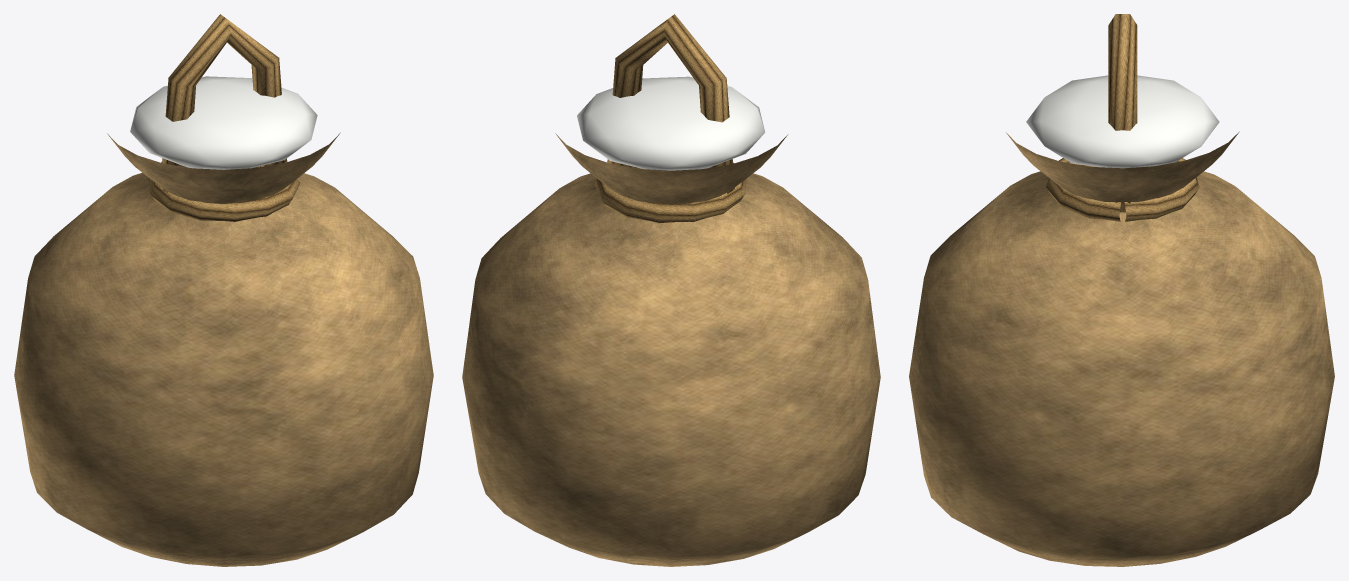
Rendered from flour-sack.glb.
3 views of the same model, side by side, from view 1: azimuth 30°, elevation 25°; view 2: azimuth 150°, elevation 25°; view 3: azimuth 270°, elevation 25° (orthographic).
Parts seen in each view (by area): view 1: sack, sack.flour, sack.rope; view 2: sack, sack.flour, sack.rope; view 3: sack, sack.flour, sack.rope.
Boxes of the visible parts, x1=… form: sack: x1=14, y1=132, x2=433, y2=566; sack.flour: x1=130, y1=76, x2=317, y2=169; sack.rope: x1=148, y1=14, x2=300, y2=221; sack: x1=462, y1=133, x2=880, y2=566; sack.flour: x1=577, y1=76, x2=765, y2=170; sack.rope: x1=594, y1=14, x2=746, y2=223; sack: x1=909, y1=131, x2=1334, y2=566; sack.flour: x1=1026, y1=75, x2=1219, y2=168; sack.rope: x1=1046, y1=14, x2=1199, y2=221.
Bounding box in the file's own units: 0.8719 × 1.13 × 0.8797.
Materials: 3 (2 with a texture image).
